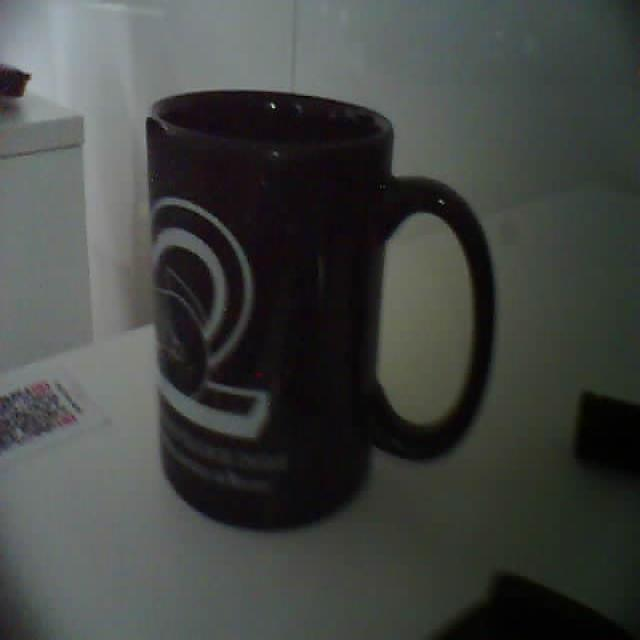caneca: (147, 91, 494, 527)
